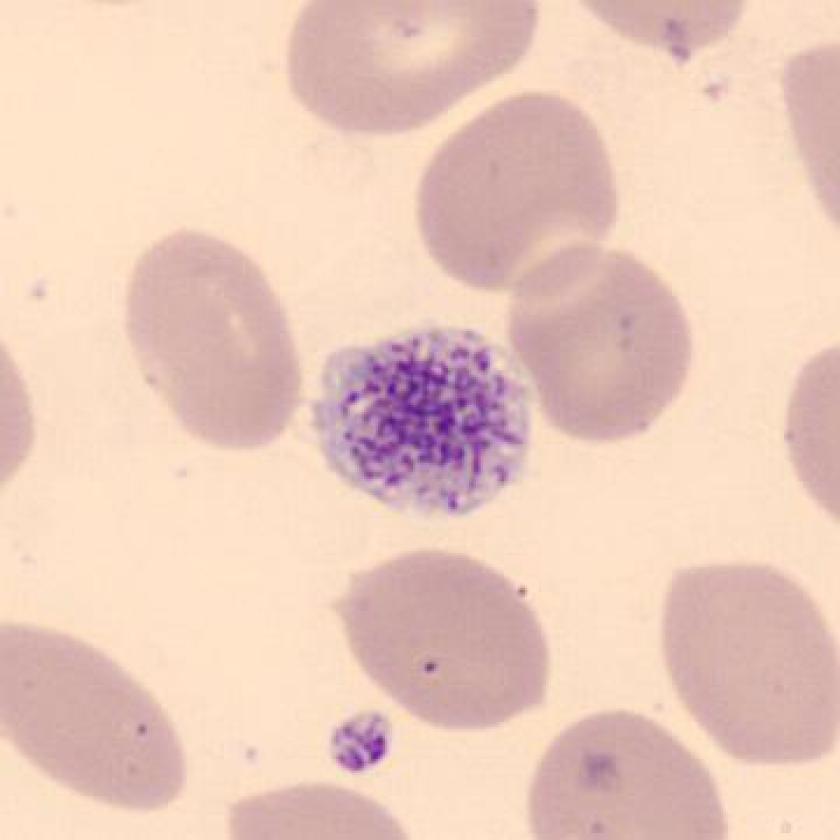platelets: (300, 302, 549, 529), (316, 696, 405, 786)
